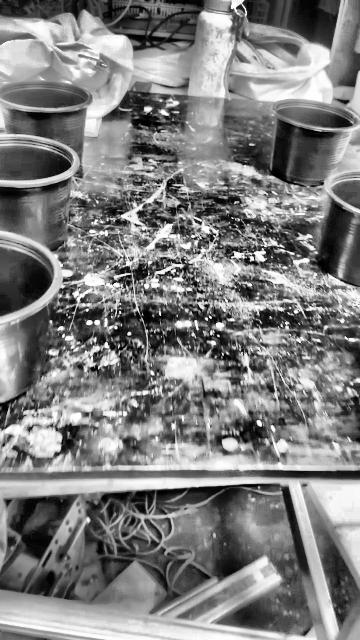pot: (0, 232, 61, 403), (0, 134, 79, 249), (270, 99, 360, 187), (0, 81, 91, 163), (319, 171, 360, 287)
